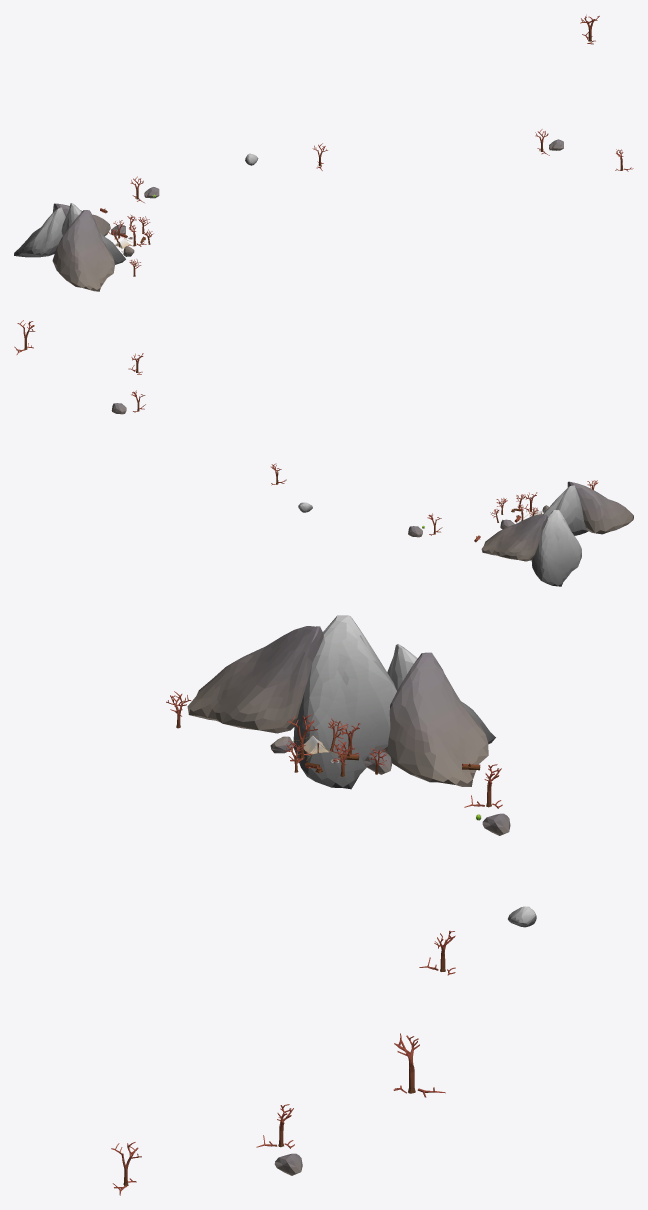
3 renders of one model, top to bottom at view 1: azimuth 30°, elevation 25°; view 2: azimuth 150°, elevation 25°; view 3: azimuth 270°, elevation 25°, orthographic. The views are drawn at different scales.
Visible parts, largest first — view 1: DoubleRockShape_High (1), DoubleRockShape_High (2); view 2: DoubleRockShape_High (2), DoubleRockShape_High (1); view 3: DoubleRockShape_High (1), DoubleRockShape_High (2).
Part boxes in pixels (x1,y1,x2,y2): DoubleRockShape_High (1): (52, 203, 125, 291); DoubleRockShape_High (2): (14, 203, 110, 257); DoubleRockShape_High (2): (481, 510, 581, 586); DoubleRockShape_High (1): (543, 481, 633, 535); DoubleRockShape_High (1): (187, 615, 396, 789); DoubleRockShape_High (2): (381, 644, 495, 786).
Bounding box in the file's own units: 5000 × 989 × 1617.
1 material, 1 textured.
